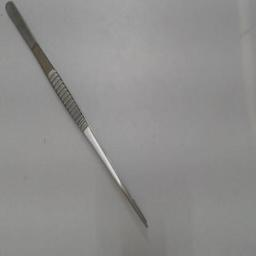DeBakey Dissector: (2, 4, 154, 246)
